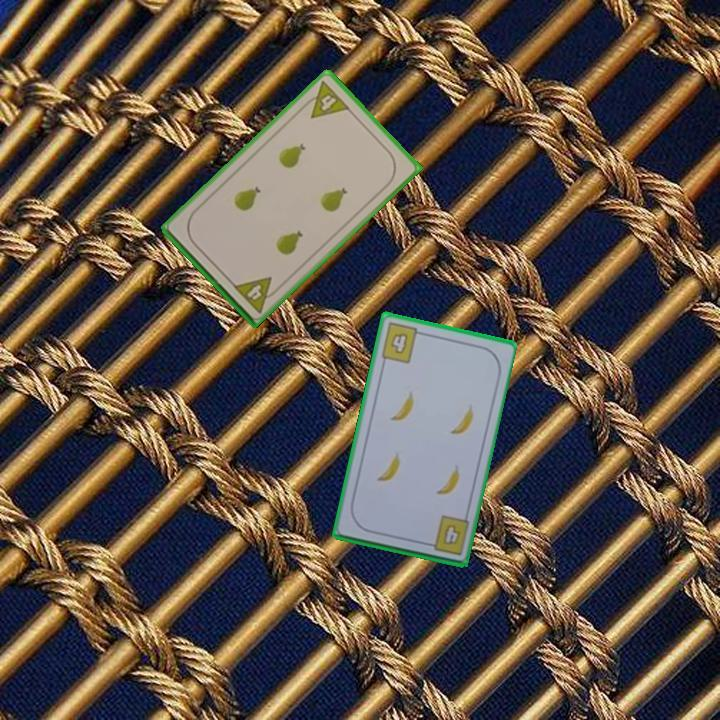4b: (377, 319, 427, 366), (422, 512, 472, 558)
4p: (298, 77, 353, 121), (229, 273, 283, 316)
